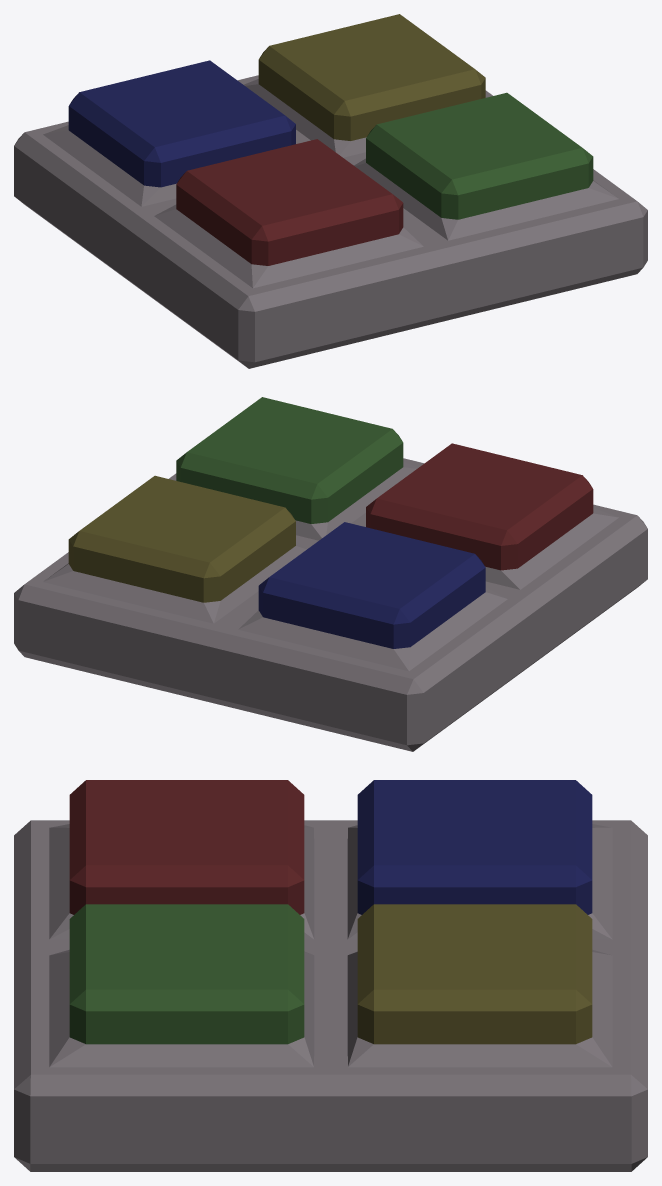
Rendered from simon_off.glb.
The picture shows the model from 3 angles, top to bottom: view 1: azimuth 30°, elevation 25°; view 2: azimuth 150°, elevation 25°; view 3: azimuth 270°, elevation 25°; orthographic projection. The views are drawn at different scales.
Parts seen in each view (by area): view 1: Simon; view 2: Simon; view 3: Simon.
Part boxes in pixels (box(x1,y1,x2,y2)): Simon: box(14, 14, 647, 368); Simon: box(14, 397, 647, 751); Simon: box(14, 780, 647, 1171).
Size of the model in its own units: 0.7697 by 0.2145 by 0.7697.
